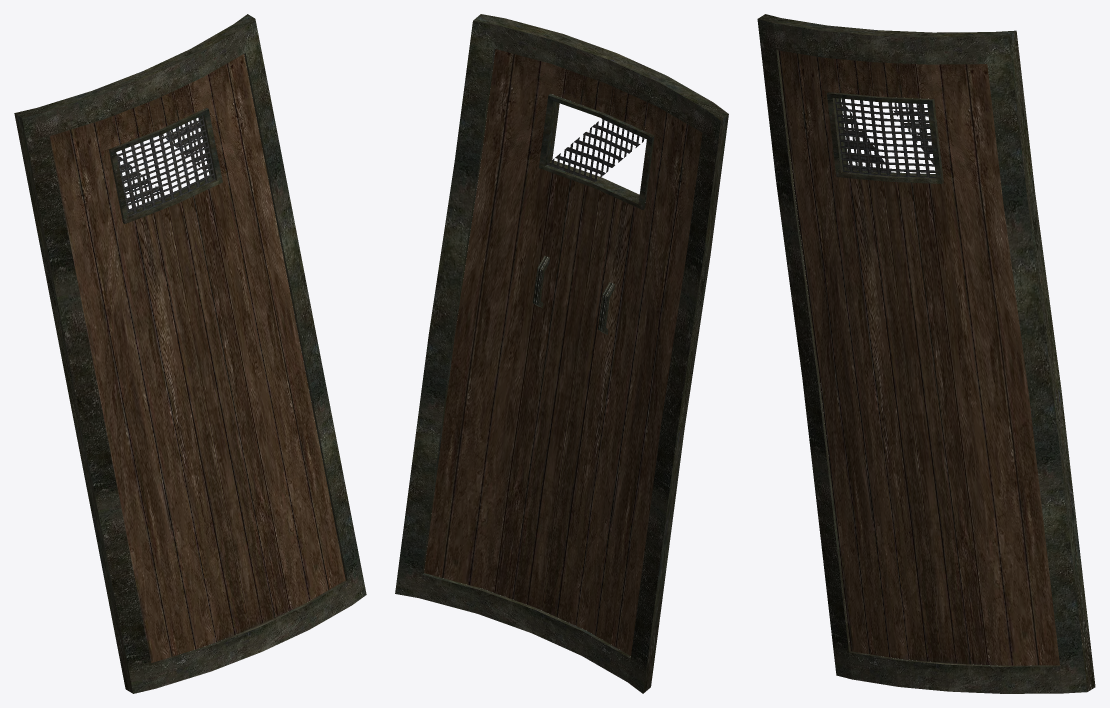
Rendered from ITSH_DIV_SHIELD_TURMSCHILD_01.glb.
3 renders of one model, left to right at view 1: azimuth 30°, elevation 25°; view 2: azimuth 150°, elevation 25°; view 3: azimuth 330°, elevation 25°, orthographic. The views are drawn at different scales.
Parts seen in each view (by area): view 1: ITSH_DIV_SHIELD_TURMSCHILD_01; view 2: ITSH_DIV_SHIELD_TURMSCHILD_01; view 3: ITSH_DIV_SHIELD_TURMSCHILD_01.
Part boxes in pixels (box(x1,y1,x2,y2)): ITSH_DIV_SHIELD_TURMSCHILD_01: box(14, 14, 366, 693); ITSH_DIV_SHIELD_TURMSCHILD_01: box(395, 14, 728, 693); ITSH_DIV_SHIELD_TURMSCHILD_01: box(757, 14, 1095, 693).
Size of the model in its own units: 0.9731 by 1.77 by 0.2006.
Materials: 3 (3 with a texture image).
